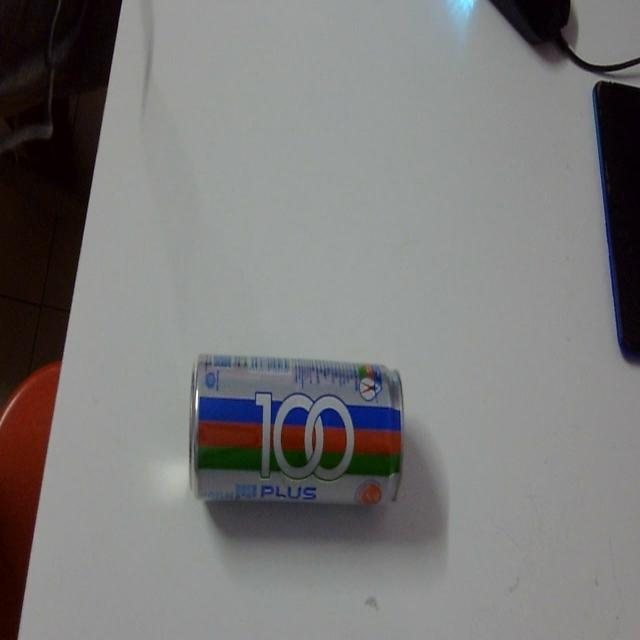metal_laydown_0rotation: (178, 335, 413, 536)
